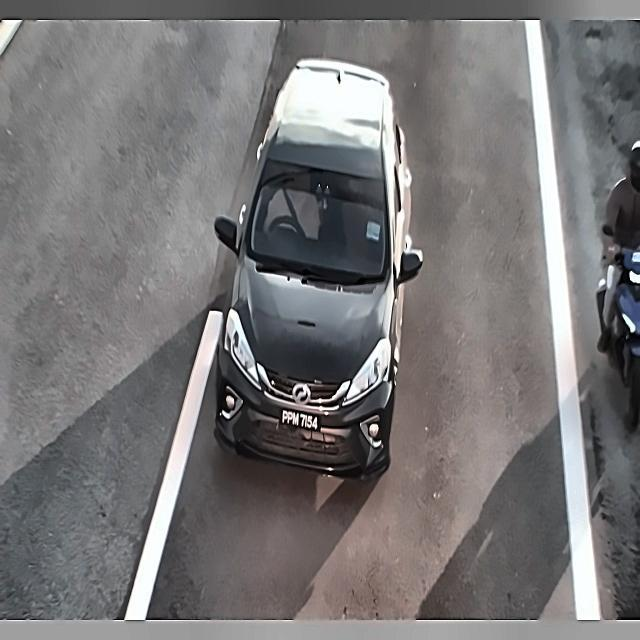car: (276, 404, 322, 438)
